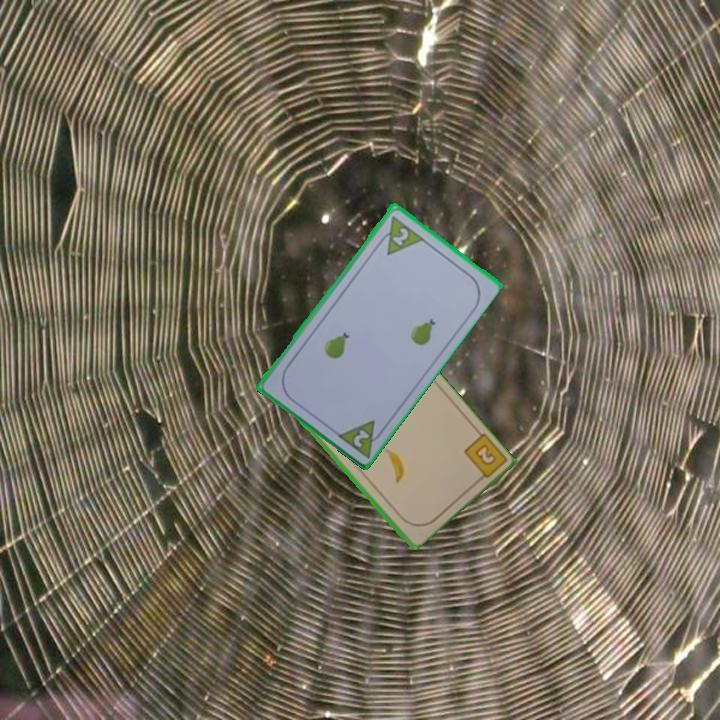2b: (460, 429, 507, 487)
2p: (333, 415, 389, 460), (389, 223, 412, 248)
